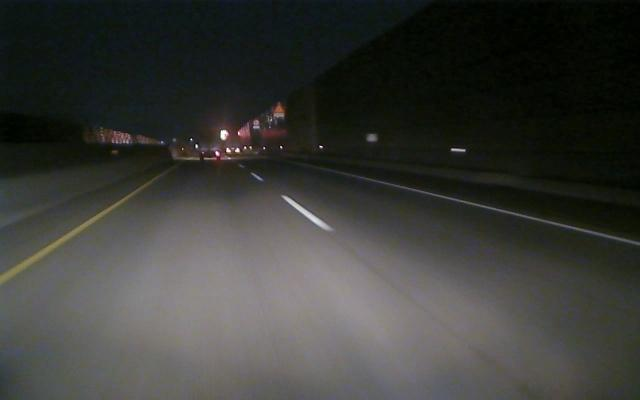lane: (340, 172, 638, 246), (2, 198, 127, 284), (252, 173, 336, 231)
